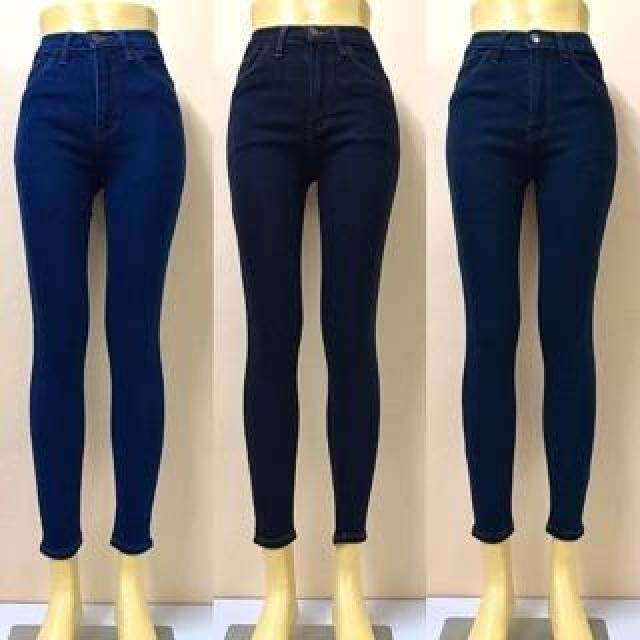pants: (206, 26, 418, 548), (5, 26, 191, 568), (438, 29, 622, 555)
